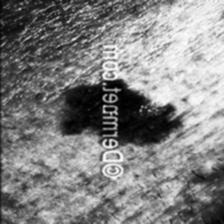Potentially Malignant Skin Tumors: (120, 64, 188, 158), (61, 64, 97, 148)
